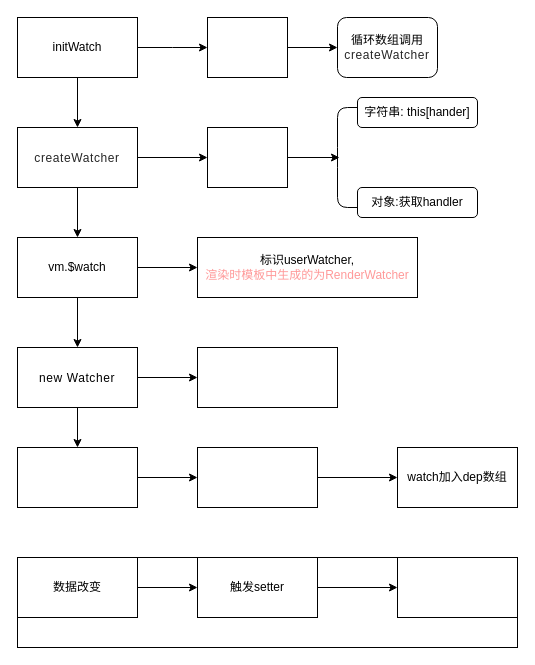
The diagram is 535 pixels wide and 665 high, and some of its shapes have lost their labels. Each missing label, with the box of its shape:
处理Value为对象或者字符串的情况: (206, 126, 288, 188)
处理Value为数组的情况: (206, 16, 288, 78)
循环dep数组,触发对应handler: (396, 556, 518, 618)
数据劫持: (16, 446, 138, 508)
生成Watchr, 获取 Data中初始化的数据,触发数据拦截gette: (196, 346, 338, 408)
触发getter,: (196, 446, 318, 508)
